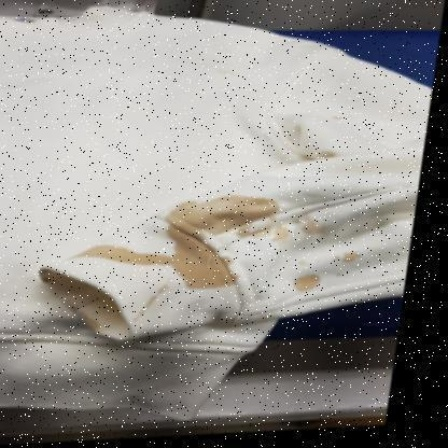coffee: (177, 199, 275, 230), (179, 247, 222, 282), (100, 248, 179, 266), (295, 275, 319, 292)
